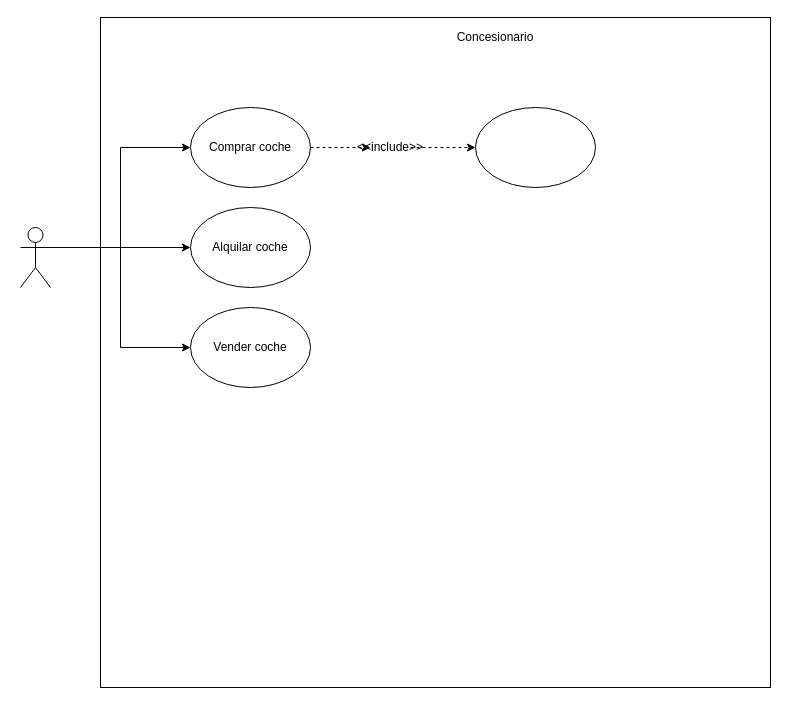
This 788x705 diagram has some shape labels left out. Here are the shapes that lost their labels. From the top down, the centre of each, then its label:
[535,147]: Registrar titularidad
[35,257]: Cliente
